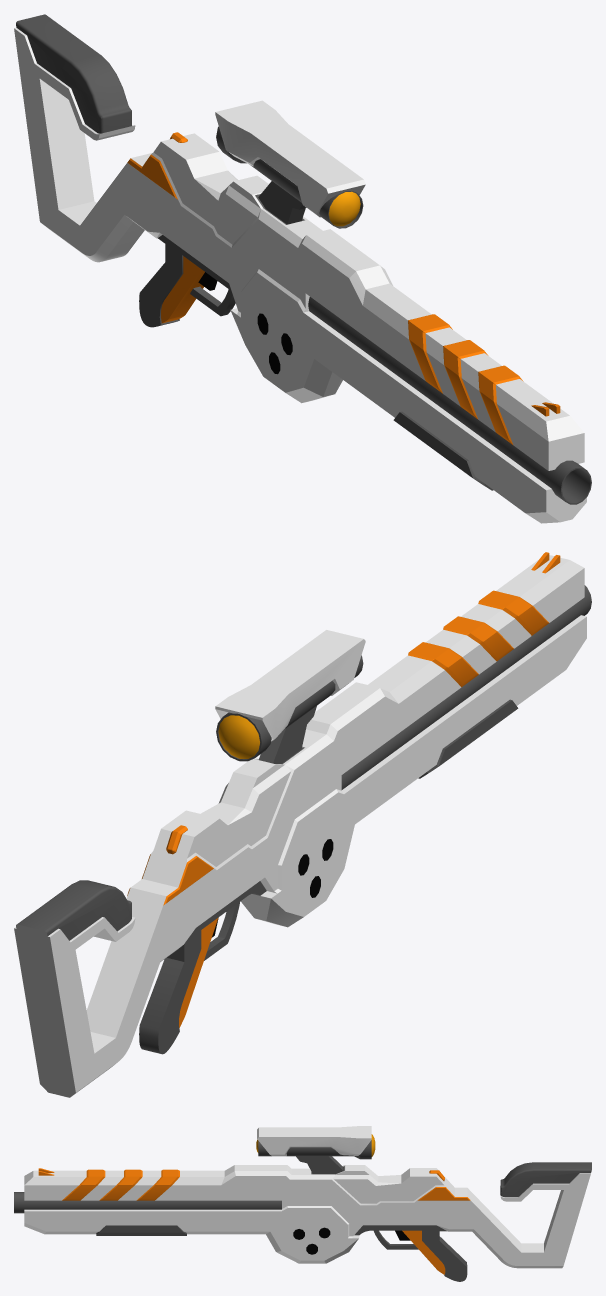
The model's file is Firelance.fbx.
3 renders of one model, top to bottom at view 1: azimuth 30°, elevation 25°; view 2: azimuth 150°, elevation 25°; view 3: azimuth 270°, elevation 25°, orthographic. The views are drawn at different scales.
Visible parts, largest first — view 1: Group2, Group4, Group5, Group6, Group3; view 2: Group2, Group4, Group5, Group6; view 3: Group2, Group4, Group5, Group3.
Boxes of the visible parts, <box> form: Group2: <box>14,27,586,523</box>; Group4: <box>16,14,591,504</box>; Group5: <box>127,132,560,445</box>; Group6: <box>329,191,360,226</box>; Group3: <box>198,272,292,374</box>; Group2: <box>14,555,586,1097</box>; Group4: <box>17,585,591,1054</box>; Group5: <box>127,552,560,1027</box>; Group6: <box>218,715,259,758</box>; Group2: <box>24,1126,590,1268</box>; Group4: <box>14,1140,591,1281</box>; Group5: <box>38,1168,470,1274</box>; Group3: <box>293,1227,410,1254</box>.
Bounding box in the file's own units: 57.9 × 326 × 1159.
